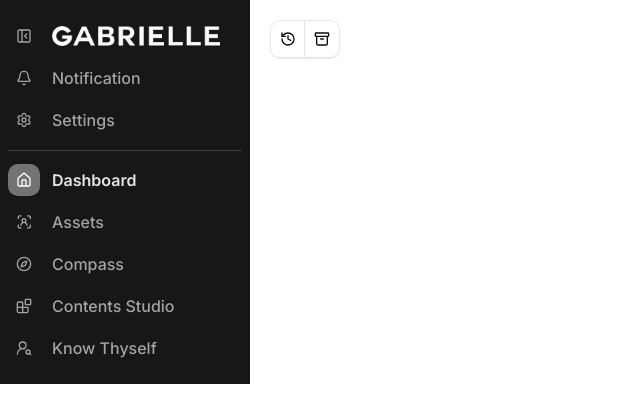
Scenario: Gnb › opens the Setting panel when Settings is clicked and closes it on a second click
The image size is (619, 405).
Click the button "Settings". click: (125, 120)
box: [8,104,242,136]
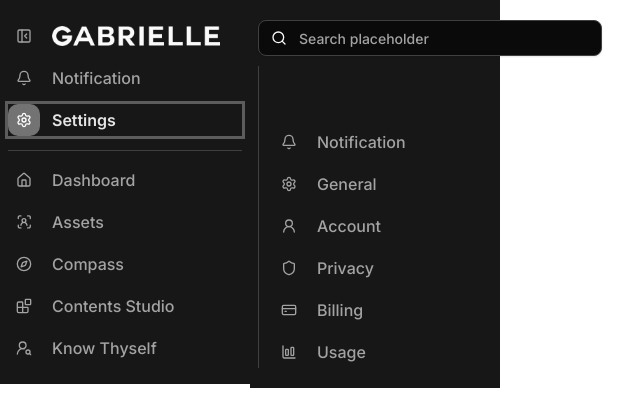
Now the text "Usage" is shown, box [317,340,366,364]
Click the button "Settings". click: (125, 120)
box: [8,104,242,136]
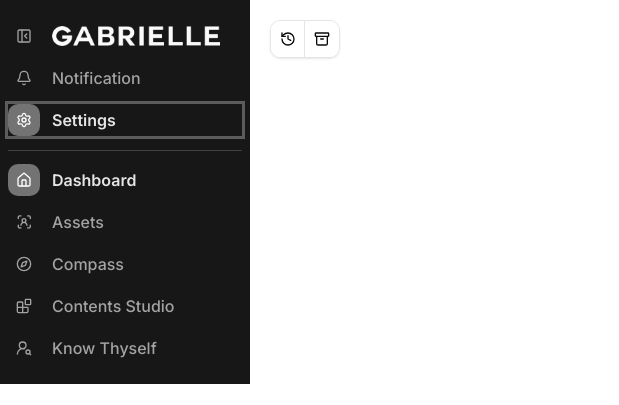
Now the button "Usage" is gone
